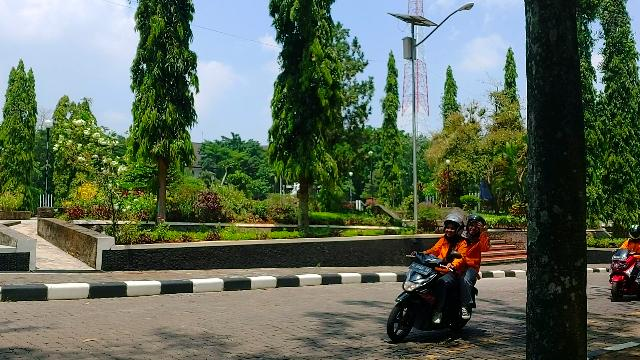helm: (443, 214, 466, 240), (467, 214, 488, 240), (630, 225, 640, 242)
motor: (388, 239, 483, 343), (609, 243, 640, 303)
